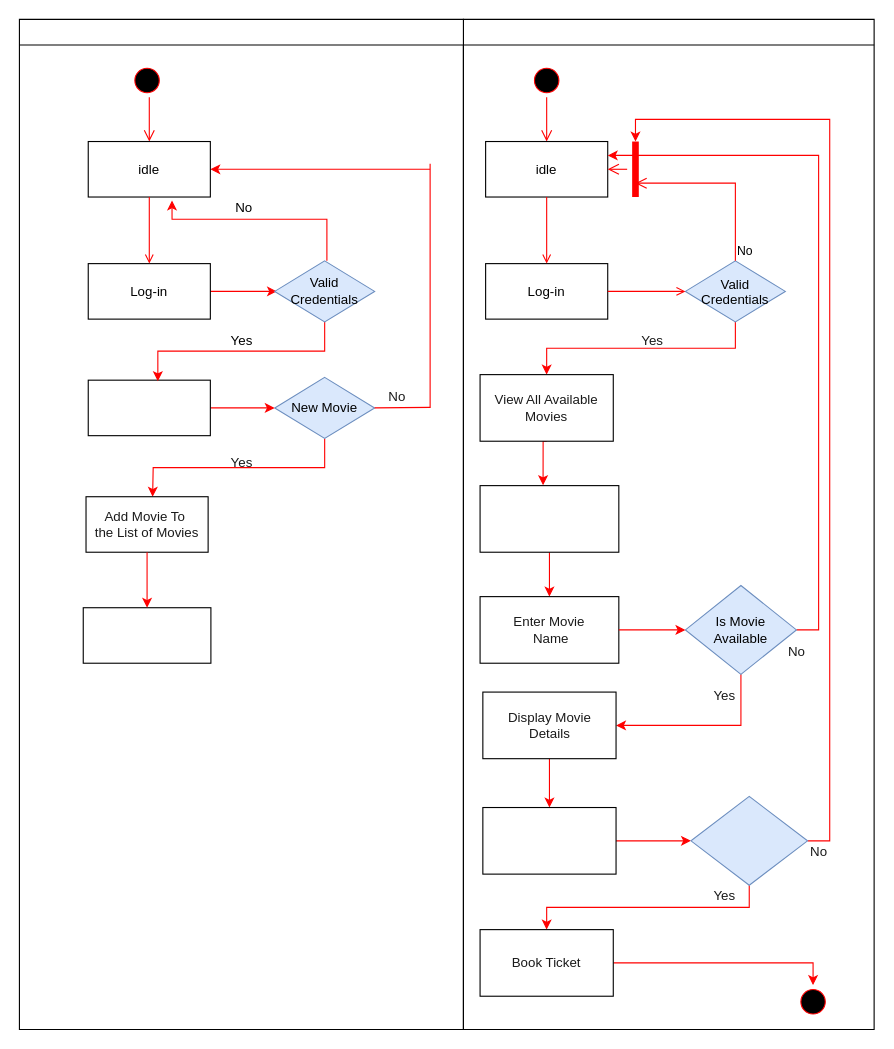
This 894x1049 diagram has some shape labels left out. The shapes that lost their labels are listed below. From the top down, each one's box as (x1, y1, x2, y2) in pixels, then its label:
(87, 379, 210, 436): Movie Insertion Section
(18, 18, 463, 1030): Admin section
(479, 485, 619, 552): Movie Search Section
(462, 18, 874, 1030): User section
(82, 607, 211, 663): View All Transactions
(482, 806, 616, 874): Ticket Booking Section
(690, 795, 808, 885): Is Movie and Seat Available
